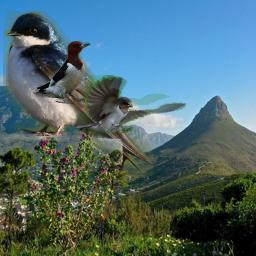Swallow: (3, 11, 154, 181), (76, 75, 186, 133)
Woodpecker: (33, 41, 91, 104)
